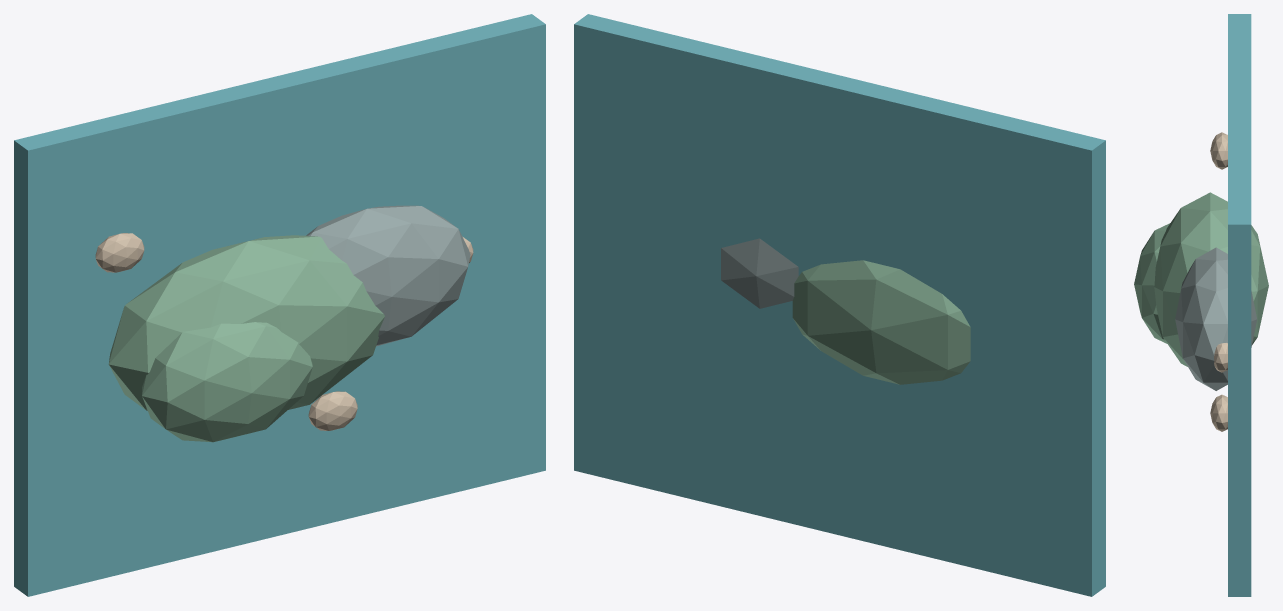
File: guishan_island.glb
The picture shows the model from 3 angles, left to right: view 1: azimuth 30°, elevation 25°; view 2: azimuth 150°, elevation 25°; view 3: azimuth 270°, elevation 25°; orthographic projection. The views are drawn at different scales.
Parts seen in each view (by area): view 1: g0, g1, g3, g2, g4, g5; view 2: g0, g1, g2; view 3: g0, g1, g2, g3, g5, g4, g6.
Part boxes in pixels (left/top/right/bottom): g0: left=14, top=14, right=545, bottom=596; g1: left=108, top=235, right=384, bottom=410; g3: left=142, top=322, right=312, bottom=442; g2: left=306, top=205, right=470, bottom=346; g4: left=95, top=233, right=144, bottom=272; g5: left=308, top=391, right=357, bottom=430; g0: left=574, top=14, right=1105, bottom=596; g1: left=792, top=260, right=970, bottom=384; g2: left=721, top=238, right=798, bottom=308; g0: left=1228, top=14, right=1251, bottom=596; g1: left=1154, top=192, right=1268, bottom=366; g2: left=1175, top=247, right=1257, bottom=390; g3: left=1134, top=223, right=1169, bottom=343; g5: left=1210, top=394, right=1227, bottom=431; g4: left=1210, top=132, right=1227, bottom=169; g6: left=1214, top=343, right=1227, bottom=372.
Bounding box in the file's own units: 85 × 70 × 23.
